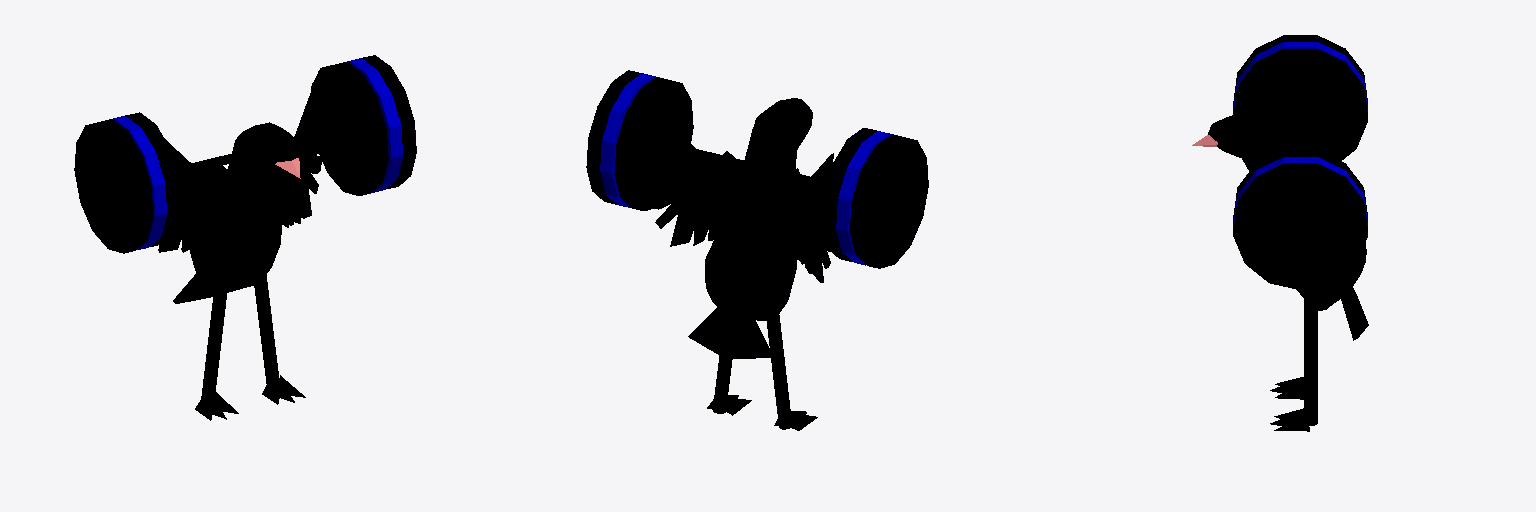
The picture shows the model from 3 angles: view 1: azimuth 30°, elevation 25°; view 2: azimuth 150°, elevation 25°; view 3: azimuth 270°, elevation 25°; orthographic projection.
Visible parts, largest first — view 1: pSphere2 group12, pasted__pasted__pCylinder3 pasted__group14 group16, group14 pasted__pCylinder3, hato:pCube4 group15, group14 pasted__pasted__pCylinder3 pasted__group17, pCylinder1, pasted__pCylinder2 group14; view 2: pSphere2 group12, hato:pCube4 group15, pasted__pasted__pCylinder3 pasted__group14 group16, group14 pasted__pCylinder3, group14 pasted__pasted__pCylinder3 pasted__group17, pCylinder1, pasted__pCylinder2 group14; view 3: pasted__pasted__pCylinder3 pasted__group14 group16, group14 pasted__pCylinder3, pSphere2 group12, hato:pCube4 group15, group14 pasted__pasted__pCylinder3 pasted__group17, pCylinder1.
Boxes of the visible parts, <box> form: pSphere2 group12: <box>173,122,300,303</box>; pasted__pasted__pCylinder3 pasted__group14 group16: <box>74,55,416,253</box>; group14 pasted__pCylinder3: <box>117,62,388,246</box>; hato:pCube4 group15: <box>158,70,325,252</box>; group14 pasted__pasted__pCylinder3 pasted__group17: <box>105,58,402,249</box>; pCylinder1: <box>201,274,278,398</box>; pasted__pCylinder2 group14: <box>91,126,346,196</box>; pSphere2 group12: <box>688,98,812,358</box>; hato:pCube4 group15: <box>642,109,833,282</box>; pasted__pasted__pCylinder3 pasted__group14 group16: <box>586,70,928,268</box>; group14 pasted__pCylinder3: <box>614,77,889,261</box>; group14 pasted__pasted__pCylinder3 pasted__group17: <box>600,74,901,265</box>; pCylinder1: <box>713,315,792,429</box>; pasted__pCylinder2 group14: <box>697,149,913,210</box>; pasted__pasted__pCylinder3 pasted__group14 group16: <box>1233,35,1367,289</box>; group14 pasted__pCylinder3: <box>1233,49,1367,222</box>; pSphere2 group12: <box>1208,113,1368,340</box>; hato:pCube4 group15: <box>1303,67,1339,285</box>; group14 pasted__pasted__pCylinder3 pasted__group17: <box>1233,42,1367,228</box>; pCylinder1: <box>1304,299,1317,425</box>.
Size of the model in its own units: 6.27 by 6.05 by 3.17.
Materials: 5 (1 with a texture image).